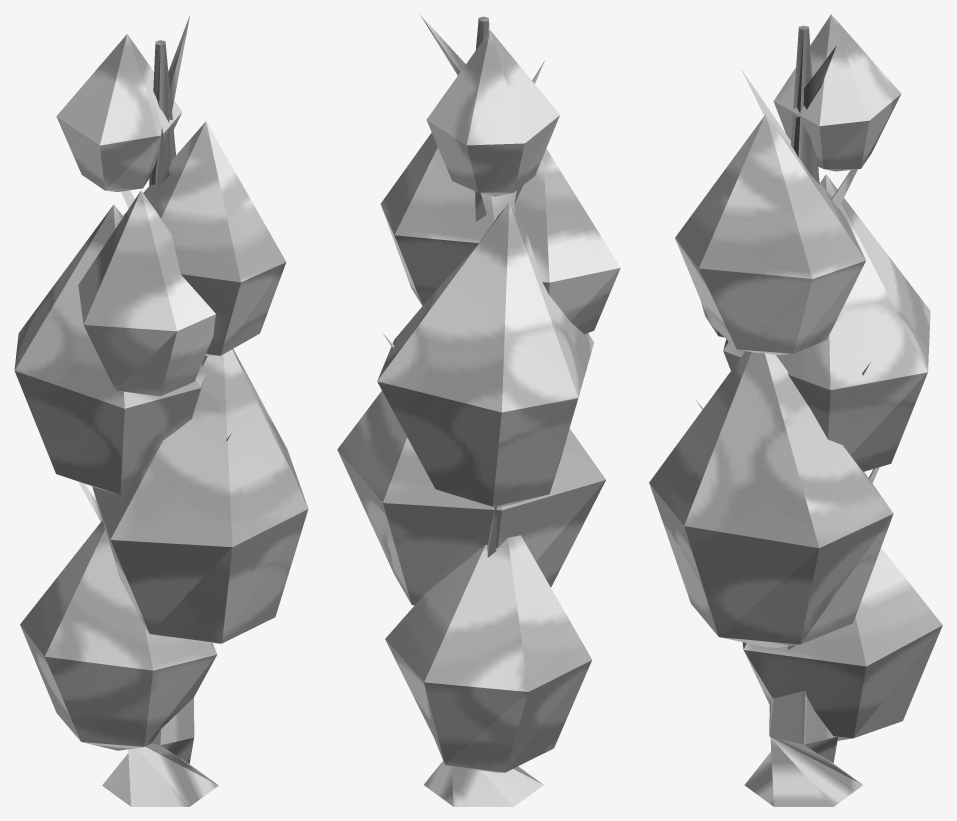
The model's file is tree_cypress.obj.
3 views of the same model, side by side, from view 1: azimuth 30°, elevation 25°; view 2: azimuth 150°, elevation 25°; view 3: azimuth 270°, elevation 25° (orthographic). The views are drawn at different scales.
Visible parts, largest first — view 1: tree_cypress; view 2: tree_cypress; view 3: tree_cypress.
Boxes of the visible parts, <box> form: tree_cypress: <box>14,15,308,806</box>; tree_cypress: <box>337,15,620,806</box>; tree_cypress: <box>649,14,942,806</box>.
Size of the model in its own units: 0.376 by 1.06 by 0.3702.
